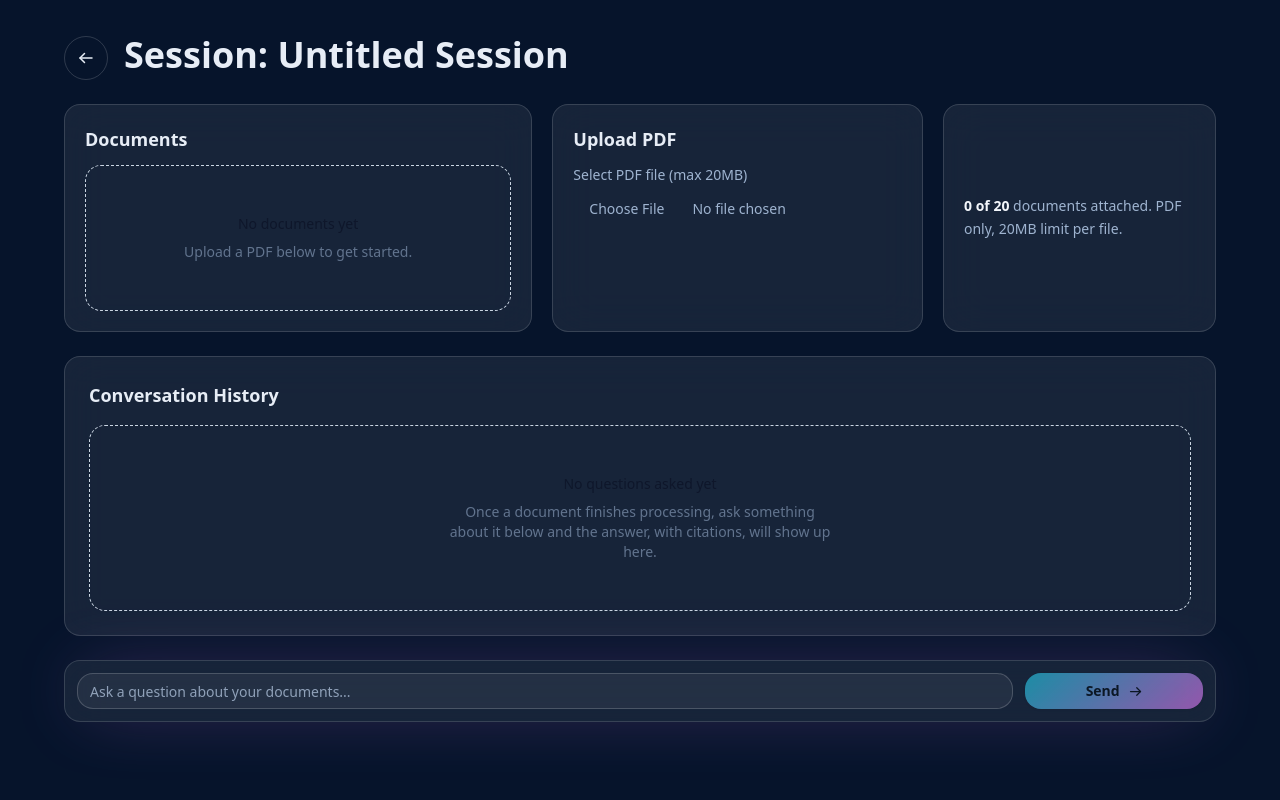
Test: SessionsSessionid ask/history/citations › surfaces a 422 'no ready documents' response via the askWarning banner instead of asking the question
In the field with placeholder "Ask a question about your documents...": (545, 691) [77,673,1013,709], type "Any ready docs?"
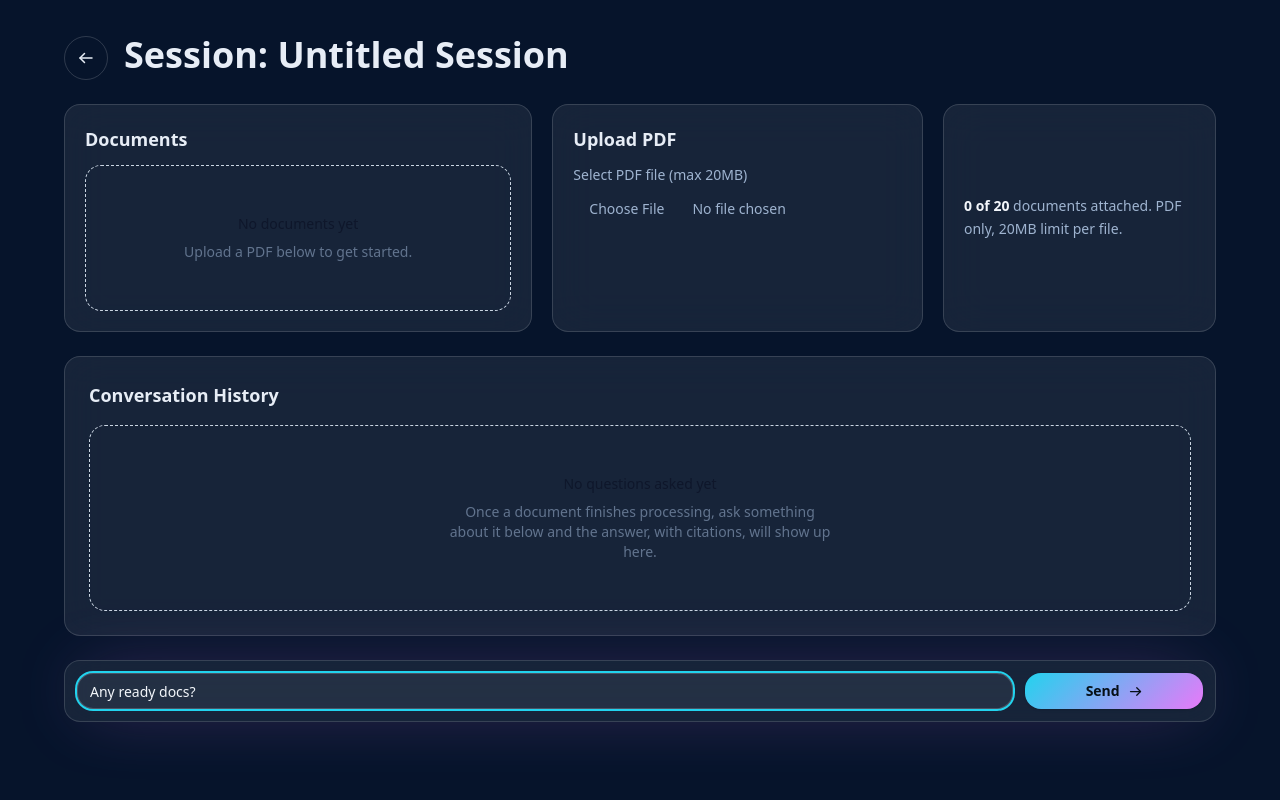
Click the button "Send": (1114, 691) [1025,673,1203,709]
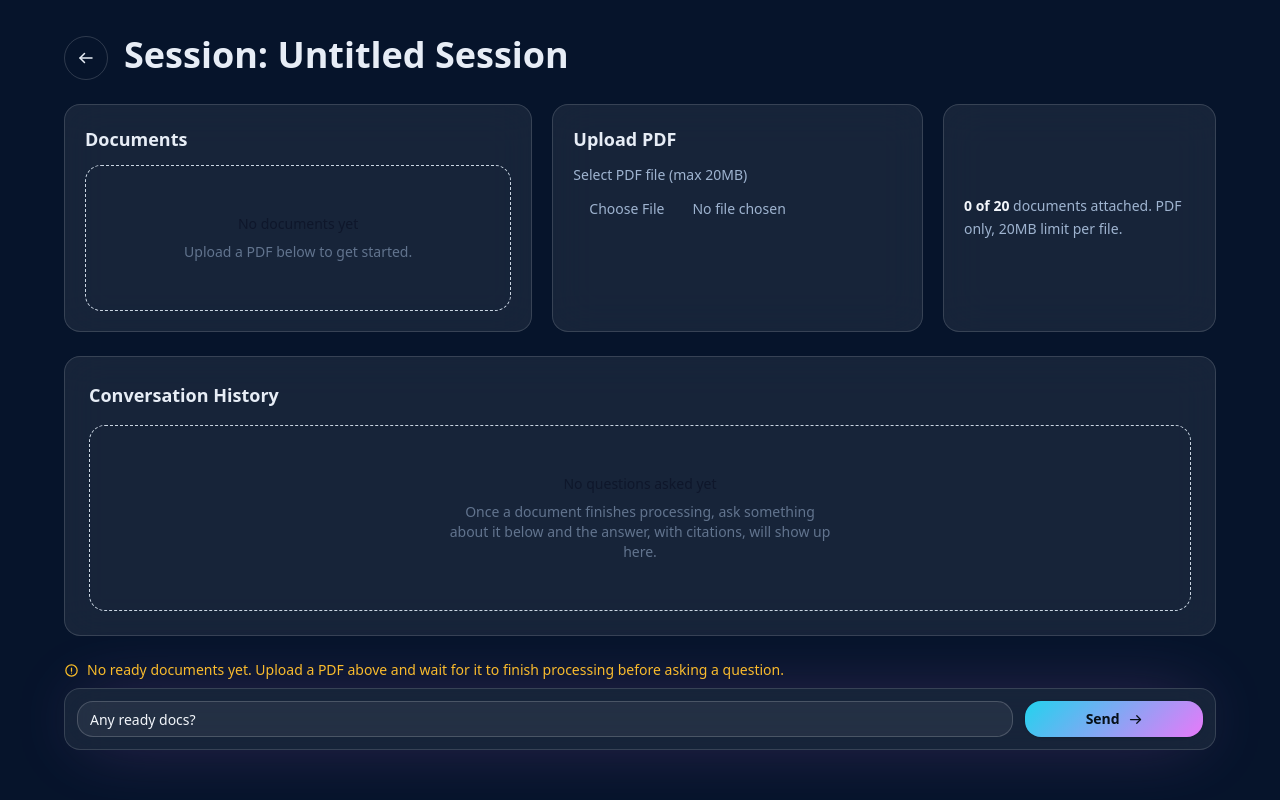
expect the text "No ready documents yet" is shown: met, box [87,660,784,679]
